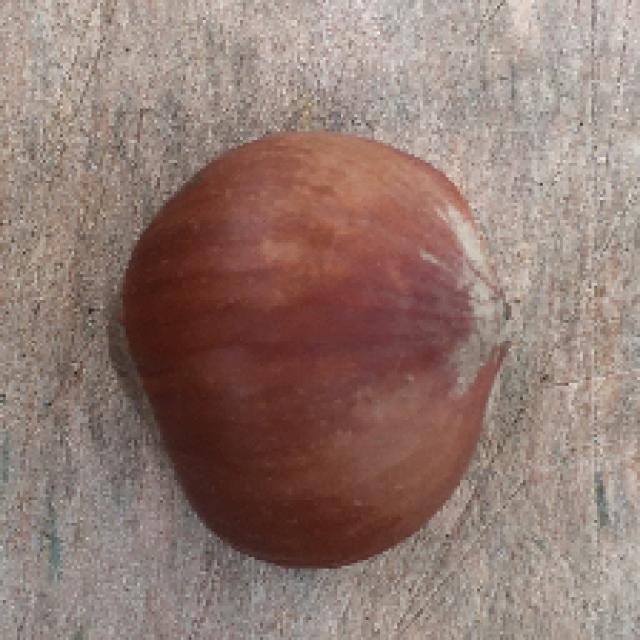qualityHazelnut: (110, 123, 523, 570)
